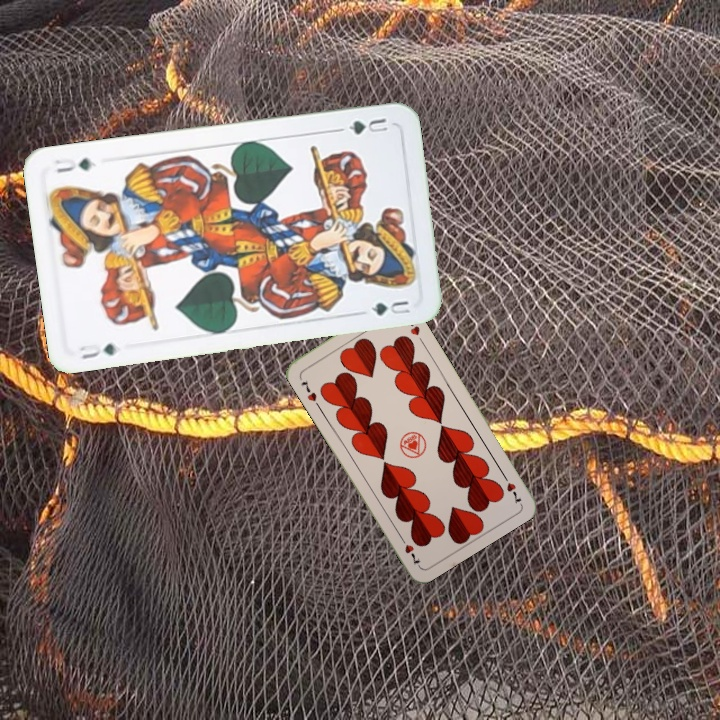GU: (344, 114, 392, 138), (75, 339, 119, 362)
H7: (498, 469, 524, 506), (297, 376, 319, 404)
